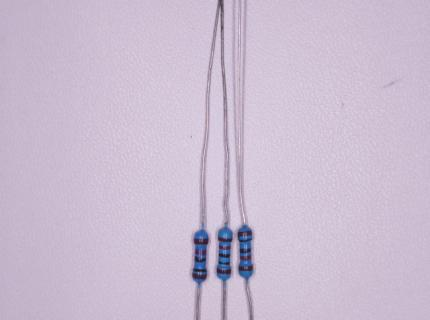Black band: (238, 237, 253, 244), (194, 256, 206, 262), (239, 248, 251, 254), (193, 267, 207, 272), (218, 253, 230, 258), (218, 260, 230, 265)
Brown band: (237, 230, 253, 237), (216, 268, 232, 275), (238, 265, 254, 272), (193, 238, 208, 245), (193, 273, 208, 280), (217, 237, 232, 242)
Red band: (194, 249, 207, 256), (239, 255, 252, 261), (219, 245, 231, 250)
